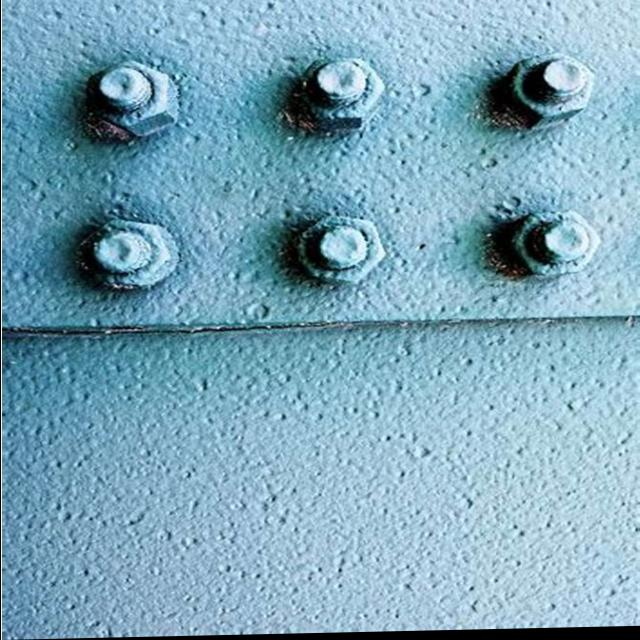Regular bolt: (499, 53, 597, 133), (90, 62, 180, 138), (87, 222, 180, 291), (302, 57, 386, 133), (297, 216, 386, 287), (510, 212, 600, 281)
